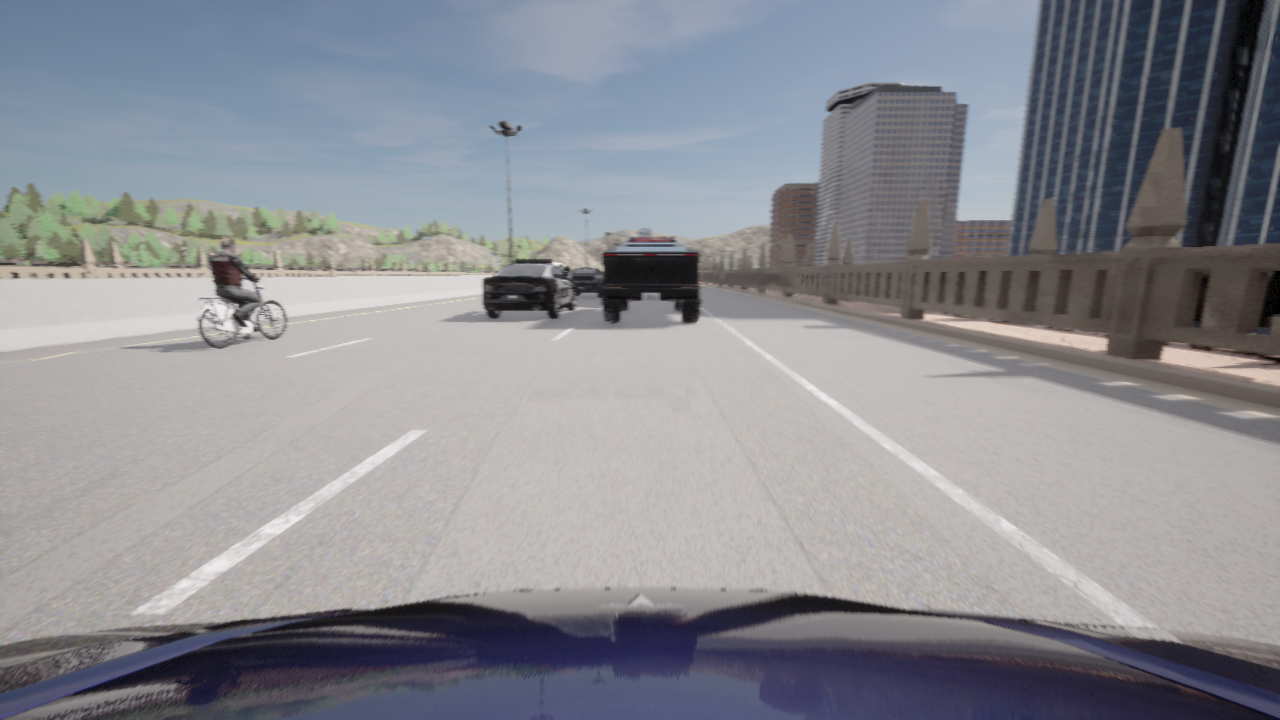cyclist: (0, 588, 1279, 719), (601, 242, 699, 322), (197, 278, 285, 347), (482, 259, 575, 317), (567, 268, 602, 296), (629, 229, 675, 242), (550, 262, 569, 277)
